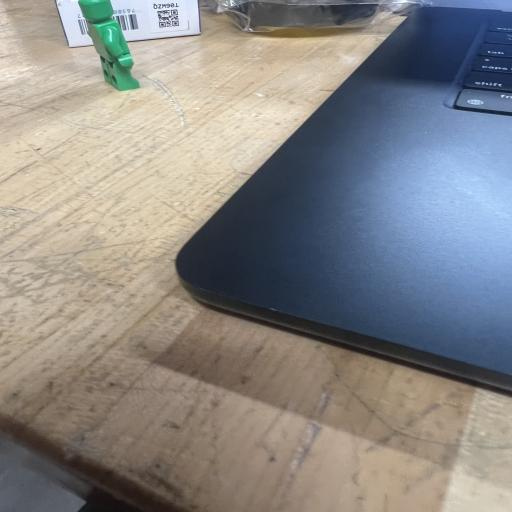green-lego-minifigure-detector: (79, 0, 139, 90)
